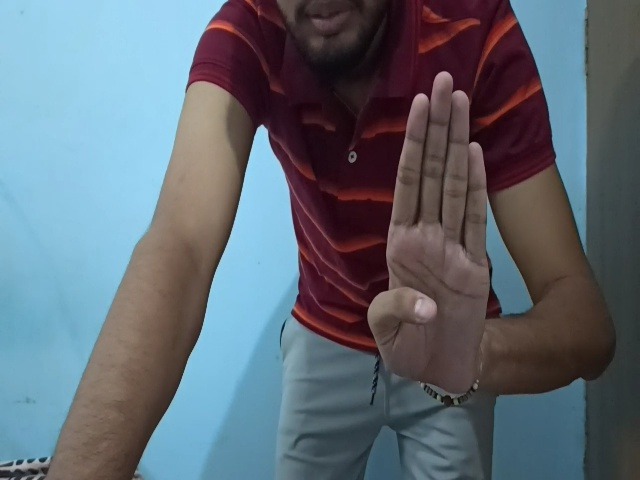B: (367, 70, 488, 395)
